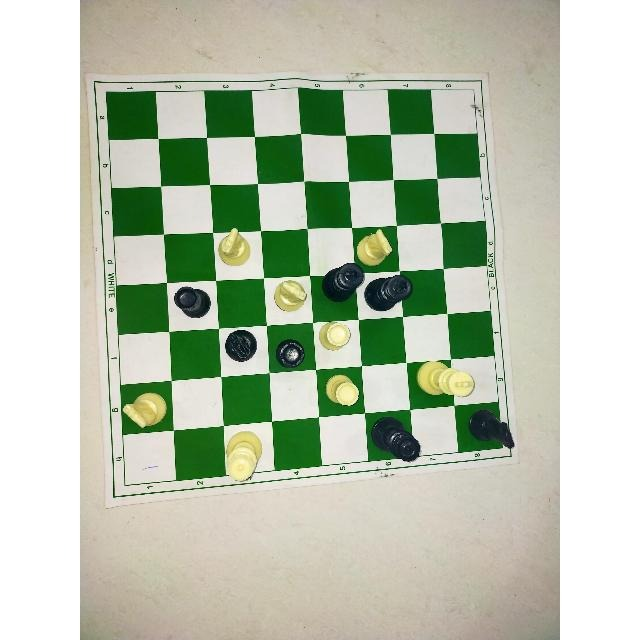black-king: (363, 272, 414, 313), (320, 262, 365, 304)
black-knight: (468, 409, 516, 451), (224, 329, 257, 363)
black-queen: (370, 414, 422, 463)
black-rook: (172, 285, 211, 319), (275, 337, 306, 368)
white-king: (417, 360, 474, 400)
white-knight: (122, 391, 169, 429), (356, 227, 394, 266), (219, 227, 250, 269), (274, 280, 308, 312)
white-queen: (224, 430, 264, 481)
white-rook: (325, 371, 361, 409), (318, 318, 352, 351)
